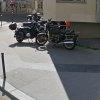Motorcycle: (6, 16, 75, 50)
